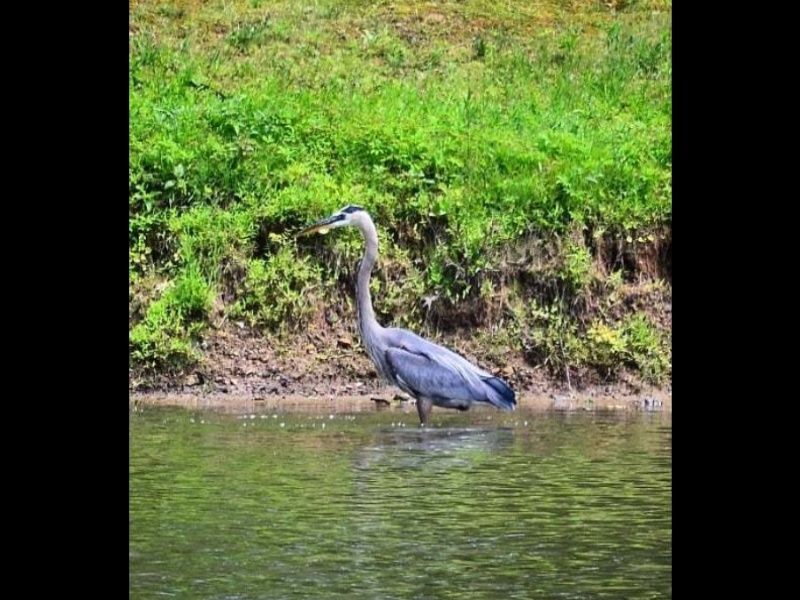heron: (293, 201, 523, 442)
